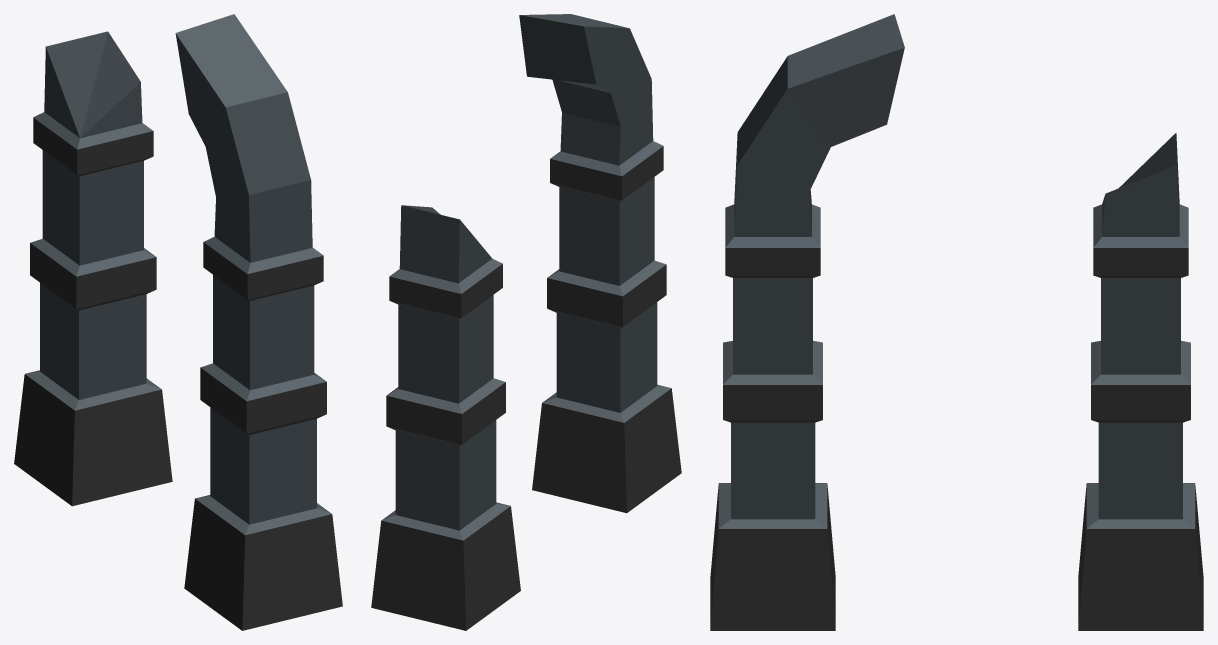
File: RuinGate-B04.fbx
3 views of the same model, side by side, from view 1: azimuth 30°, elevation 25°; view 2: azimuth 150°, elevation 25°; view 3: azimuth 270°, elevation 25° (orthographic). The views are drawn at different scales.
Visible parts, largest first — view 1: RuinGate-B04; view 2: RuinGate-B04; view 3: RuinGate-B04.
Boxes of the visible parts, bbox=[...] form: RuinGate-B04: bbox=[14, 14, 342, 630]; RuinGate-B04: bbox=[371, 14, 681, 630]; RuinGate-B04: bbox=[710, 14, 1203, 630].
Size of the model in its own units: 526 by 675 by 134.
